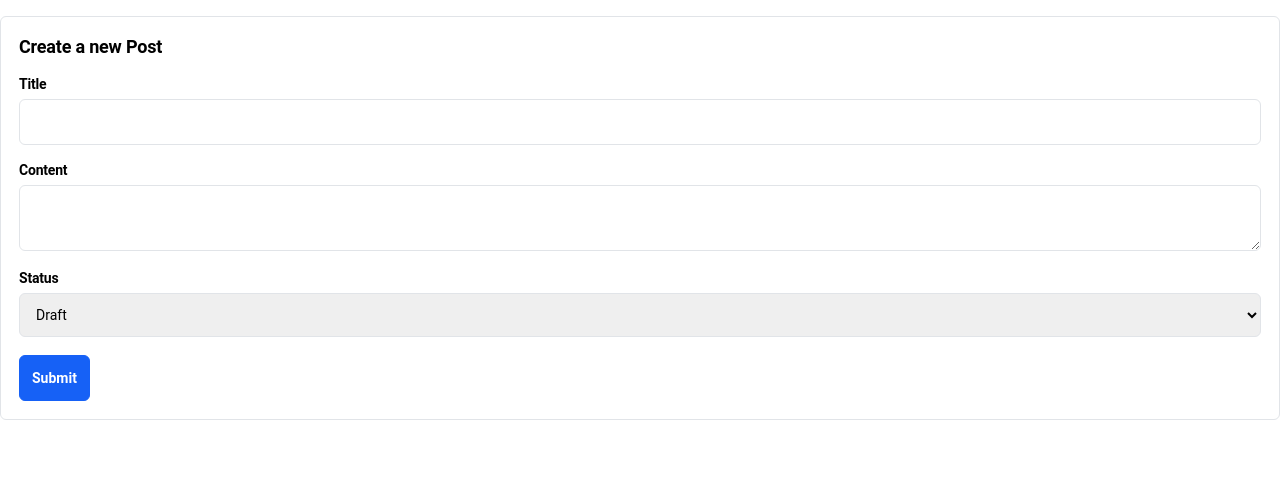
Test case: PostCreate › should display the alert danger message when empty title
Click the button with test id "submit-button" at (54, 378), box [19, 355, 90, 401]
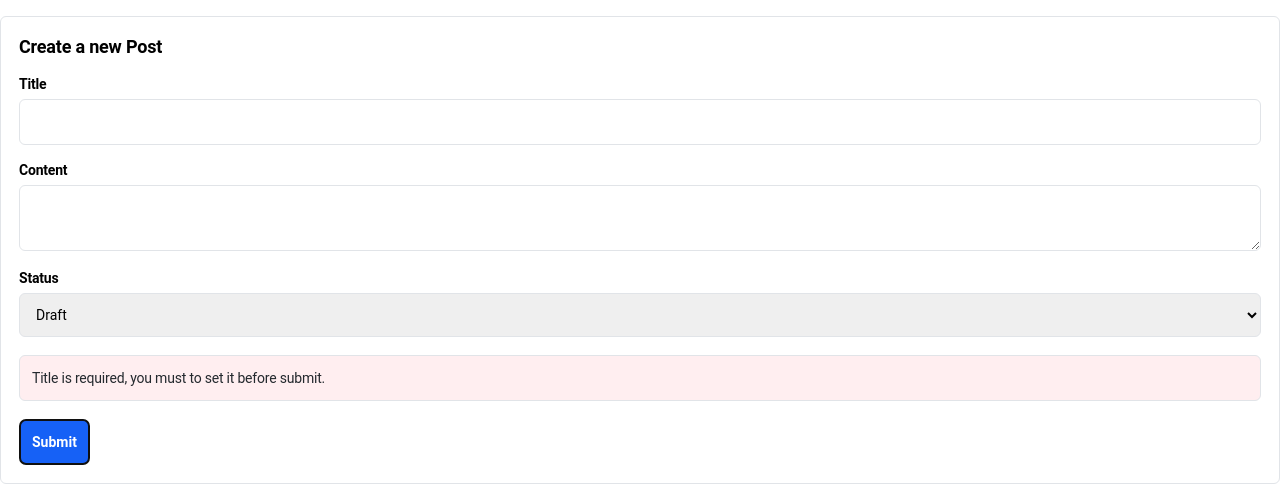
expect the text "Title is required, you must to set it before submit." is shown: met, box [19, 355, 1261, 401]
expect the text with test id "alert-message" reads "Title is required, you must to set it before submit.": met, box [32, 370, 325, 386]
